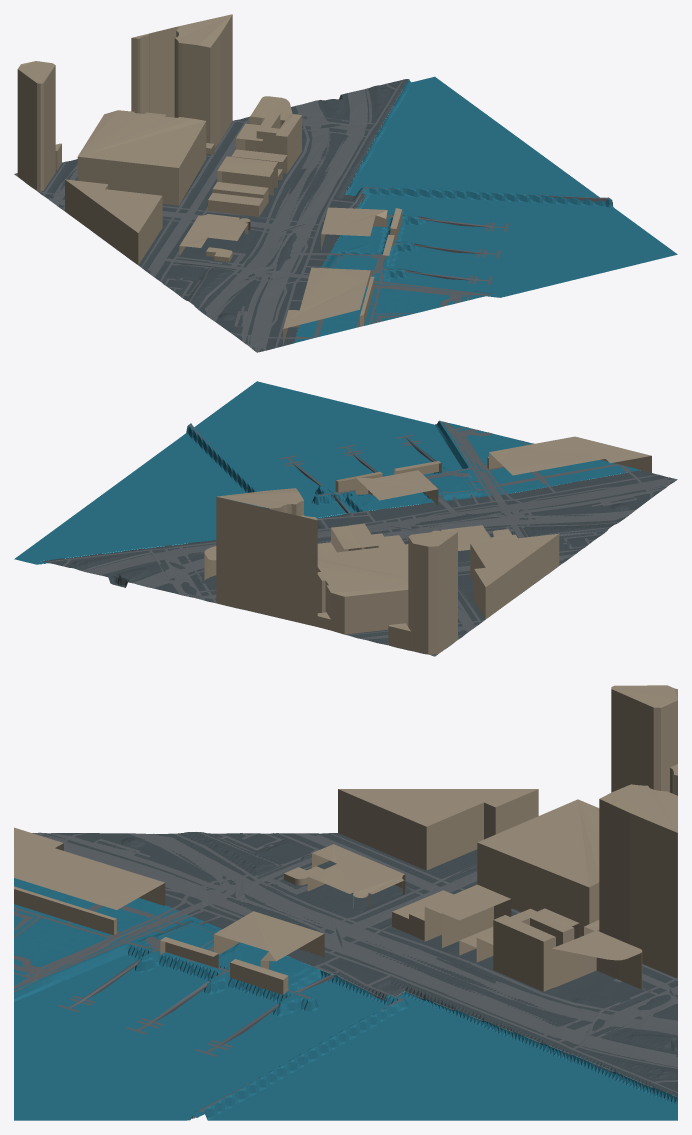
Rendered from epsg26910-1441-10893.lod1-2m.glb.
The picture shows the model from 3 angles, top to bottom: view 1: azimuth 30°, elevation 25°; view 2: azimuth 150°, elevation 25°; view 3: azimuth 270°, elevation 25°; orthographic projection. The views are drawn at different scales.
Parts seen in each view (by area): view 1: epsg26910-1441-10893-lod1; view 2: epsg26910-1441-10893-lod1; view 3: epsg26910-1441-10893-lod1.
Boxes of the visible parts, box(x1,y1,x2,y2) form: epsg26910-1441-10893-lod1: box(14, 14, 677, 352); epsg26910-1441-10893-lod1: box(14, 381, 677, 656); epsg26910-1441-10893-lod1: box(14, 685, 677, 1120).
Size of the model in its own units: 384 by 100 by 384.
